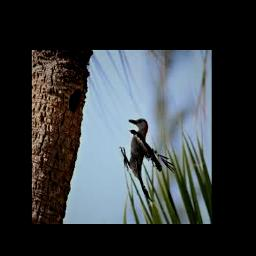Woodpecker: (120, 119, 176, 202)
